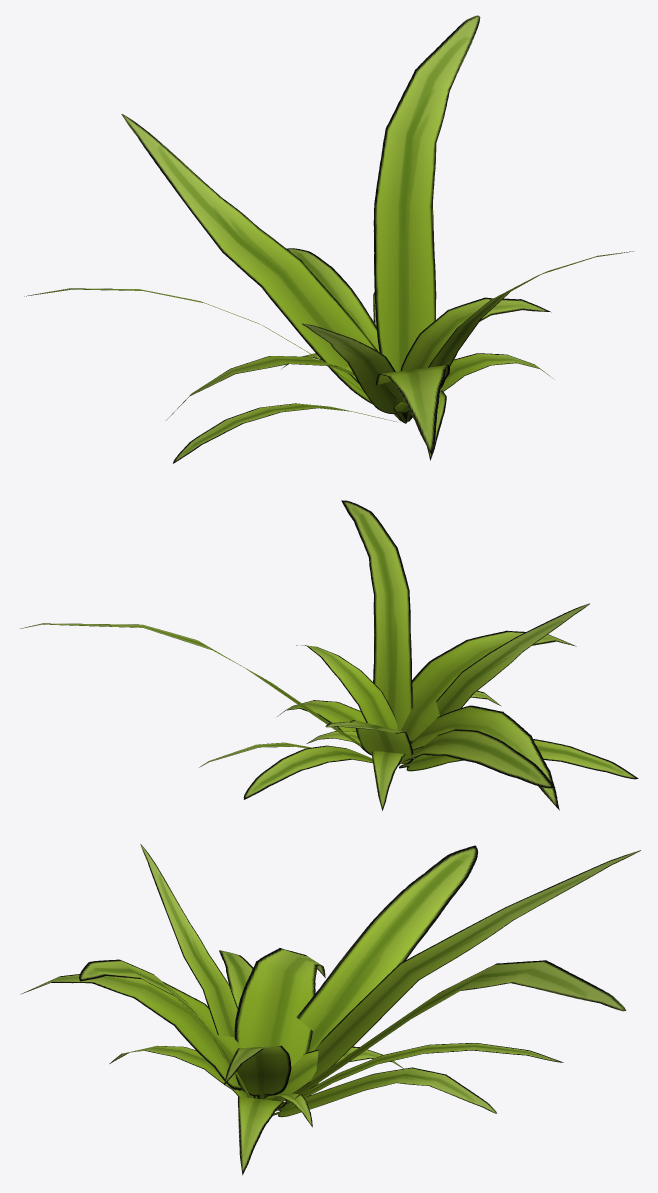
The model's file is Moonset_FBX_foliage_mid_02.fbx.
3 views of the same model, one above another, from view 1: azimuth 30°, elevation 25°; view 2: azimuth 150°, elevation 25°; view 3: azimuth 270°, elevation 25° (orthographic). The views are drawn at different scales.
Visible parts, largest first — view 1: Foliage_mid_02; view 2: Foliage_mid_02; view 3: Foliage_mid_02.
Boxes of the visible parts, left/top/right/bottom form: Foliage_mid_02: left=24, top=15, right=634, bottom=463; Foliage_mid_02: left=20, top=500, right=638, bottom=810; Foliage_mid_02: left=20, top=844, right=640, bottom=1175.
Size of the model in its own units: 1.9 by 0.7716 by 1.83.
